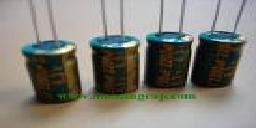Electrolytic-Capacitor: (16, 1, 82, 101), (193, 28, 248, 93), (86, 30, 144, 91), (145, 29, 191, 89)
